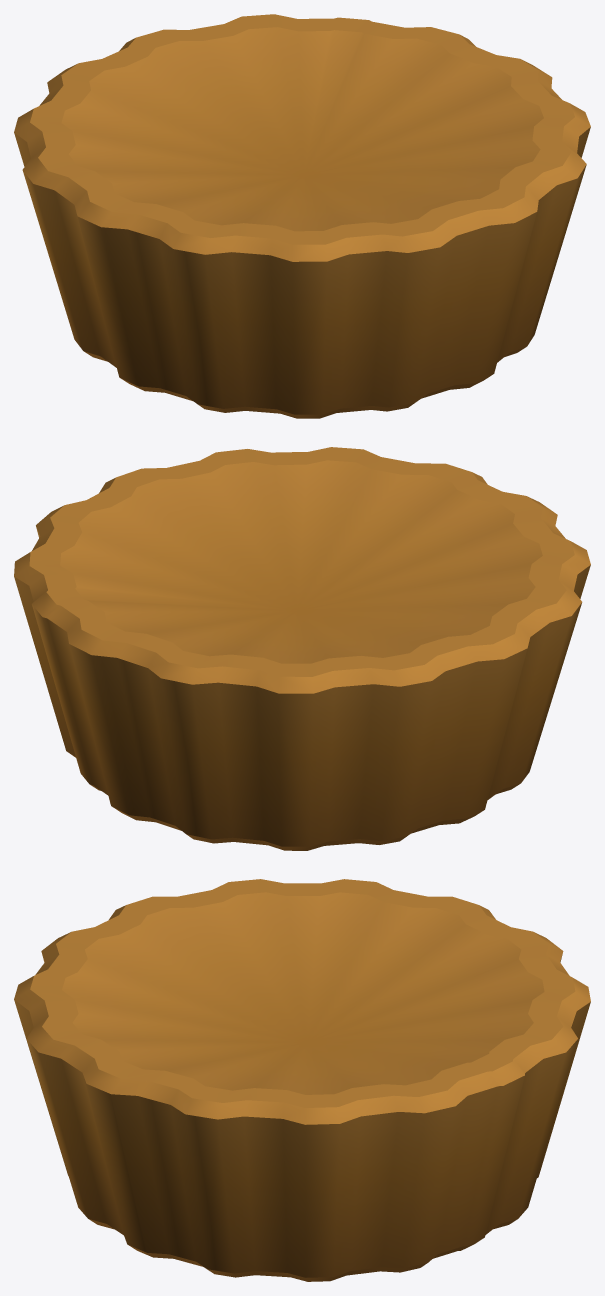
The model's file is Cake_StrawberryLemon_LV1.glb.
3 renders of one model, top to bottom at view 1: azimuth 30°, elevation 25°; view 2: azimuth 150°, elevation 25°; view 3: azimuth 270°, elevation 25°, orthographic.
Visible parts, largest first — view 1: Cake_StrawberryLemon_LV1; view 2: Cake_StrawberryLemon_LV1; view 3: Cake_StrawberryLemon_LV1.
Boxes of the visible parts, x1,y1,x2,y2 form: Cake_StrawberryLemon_LV1: (14, 14, 590, 418); Cake_StrawberryLemon_LV1: (14, 447, 590, 850); Cake_StrawberryLemon_LV1: (14, 879, 590, 1281).
Bounding box in the file's own units: 0.4072 × 0.1522 × 0.4097.
Materials: 1 (1 with a texture image).
